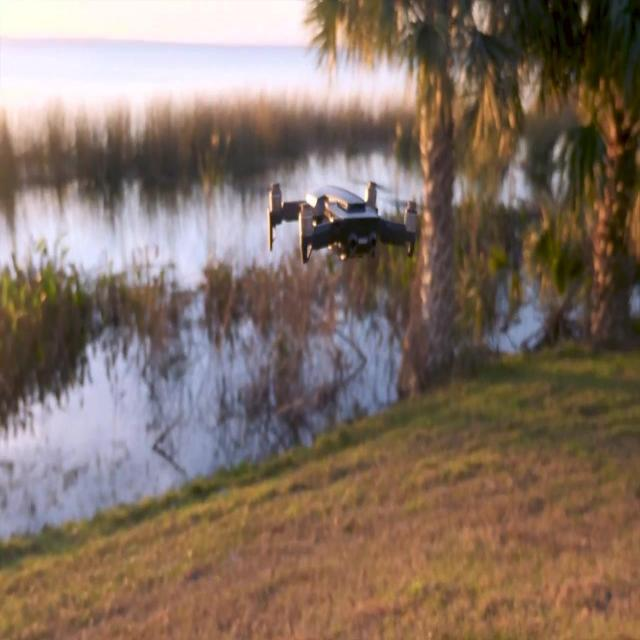UAV: (260, 179, 428, 264)
